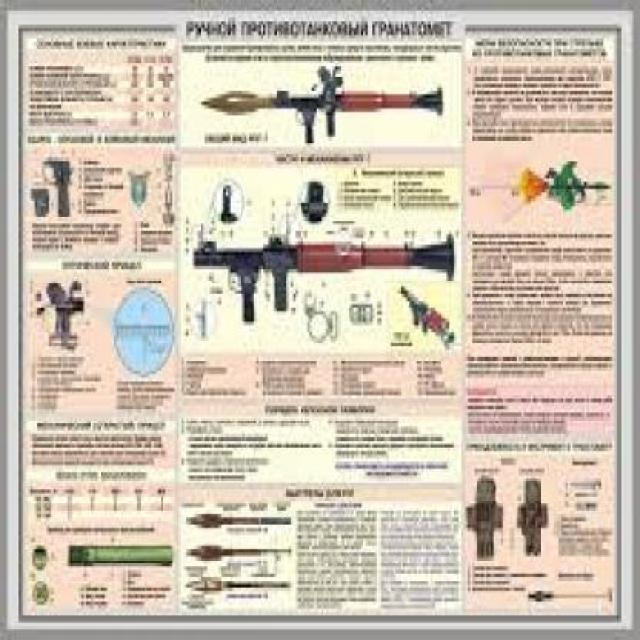weapon: (191, 194, 464, 329), (192, 65, 455, 141)
